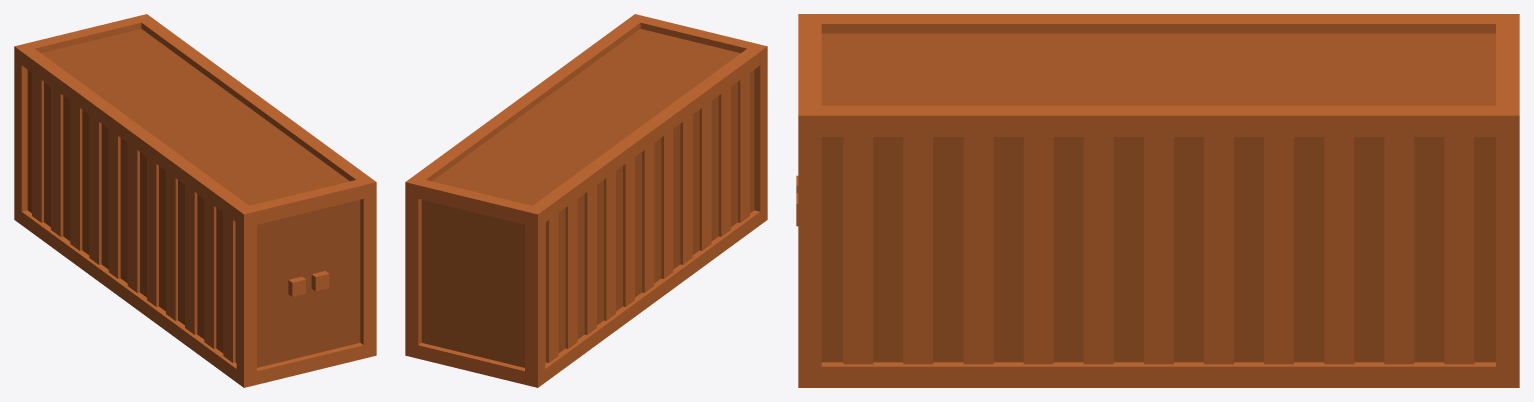
Rendered from container-1.glb.
The picture shows the model from 3 angles, left to right: view 1: azimuth 30°, elevation 25°; view 2: azimuth 150°, elevation 25°; view 3: azimuth 270°, elevation 25°; orthographic projection. The views are drawn at different scales.
Visible parts, largest first — view 1: container; view 2: container; view 3: container.
Part boxes in pixels (x1=…): container: x1=14, y1=14, x2=376, y2=387; container: x1=405, y1=14, x2=767, y2=387; container: x1=796, y1=14, x2=1519, y2=387.
Size of the model in its own units: 8 by 10 by 24.06.
